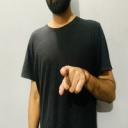hand: (58, 64, 90, 96)
